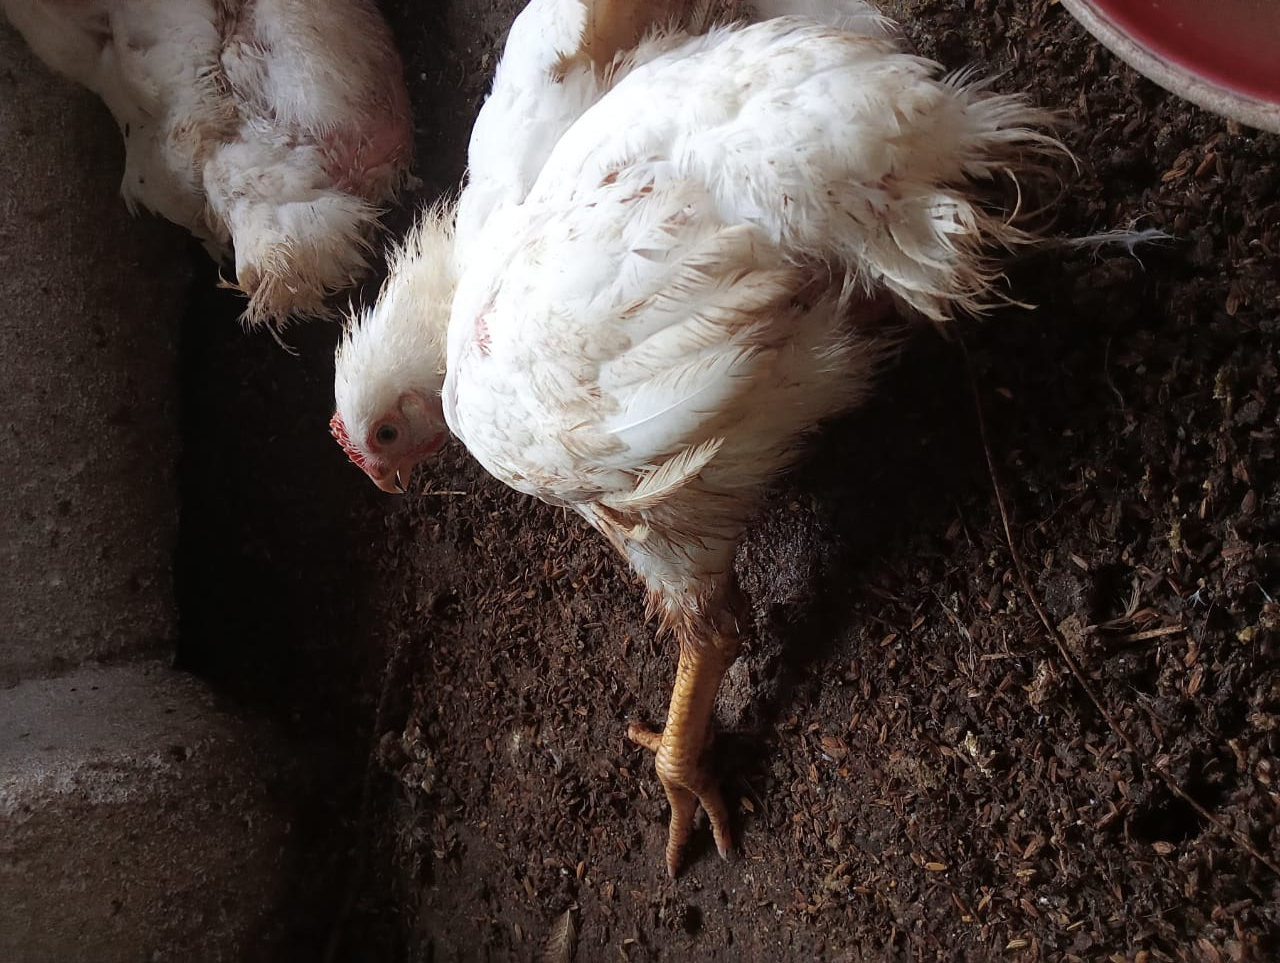Unhealthy: (277, 15, 977, 876)
